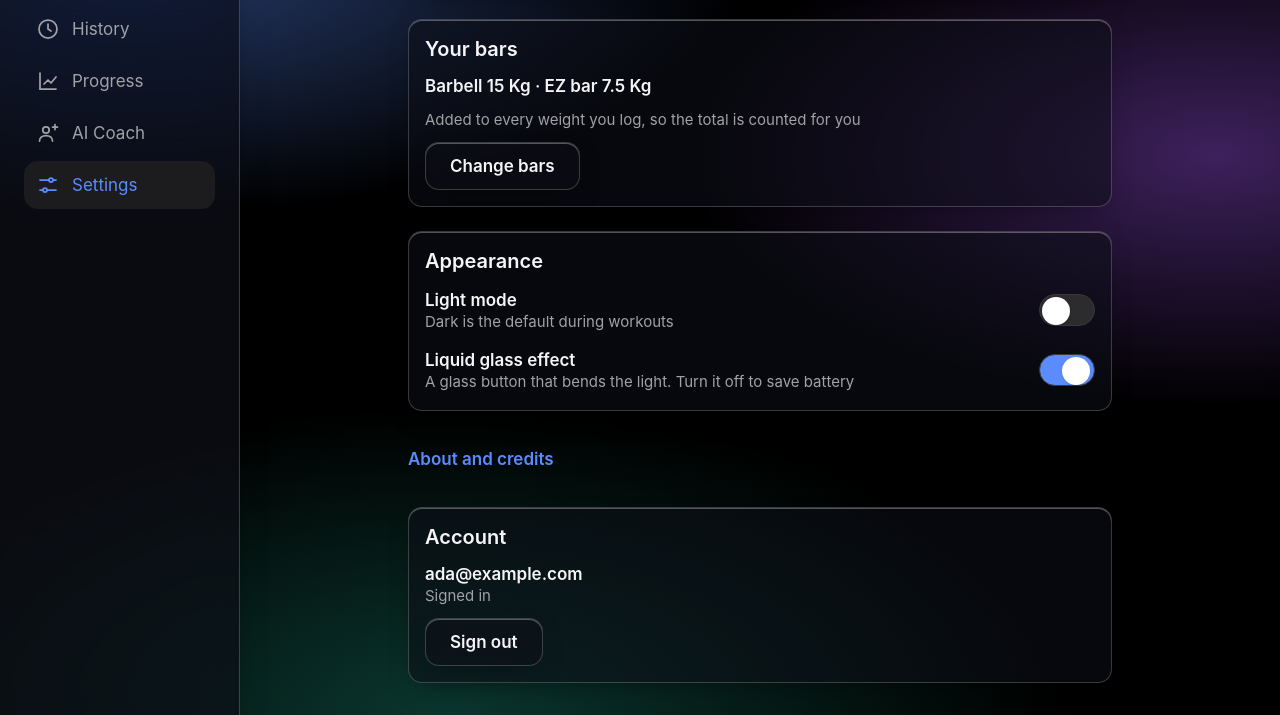
Test: QA sign-out › counts 1 waiting sets in the warning (the synced workout is not counted)
This screenshot has width=1280, height=715.
(page scrolled)
What coordinates should you click on to do the following:
click the button "Sign out"
I would click on:
 (484, 642)
Its box is x1=425 y1=618 x2=543 y2=666.
(page scrolled)
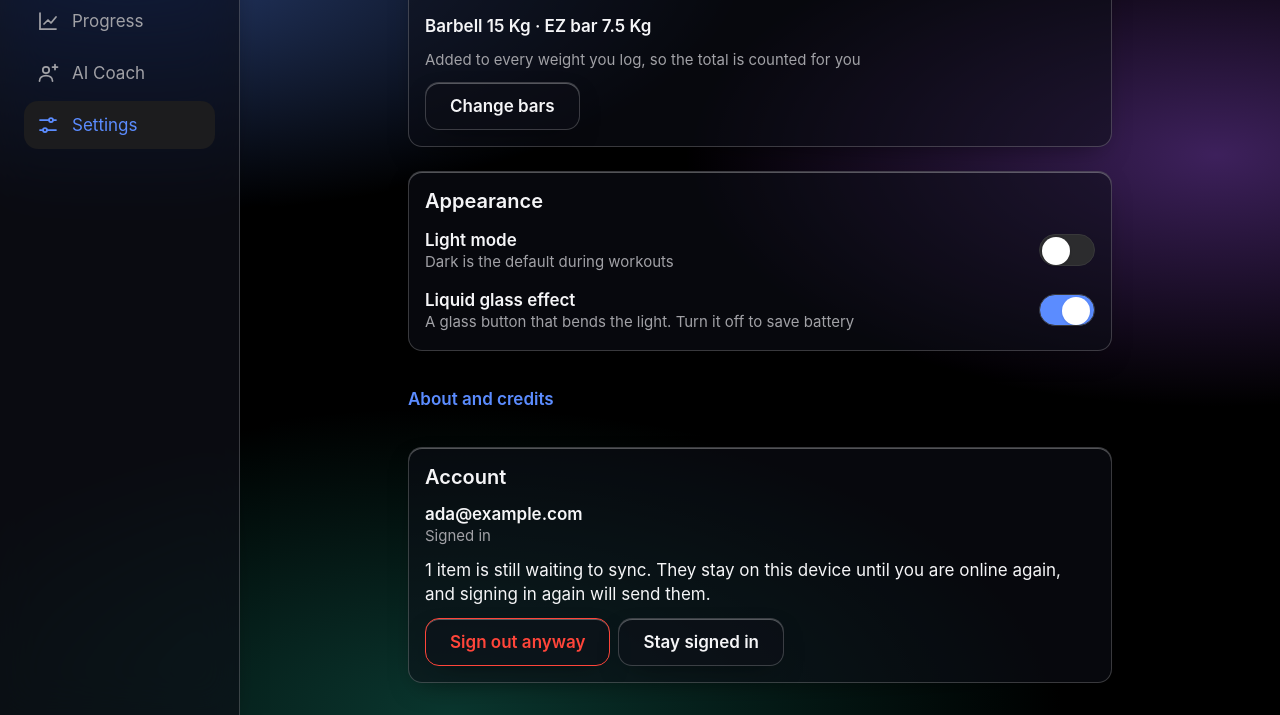
Check: the element named "Sets waiting" shows "1 item is still waiting to sync", box x1=425 y1=558 x2=1095 y2=666
